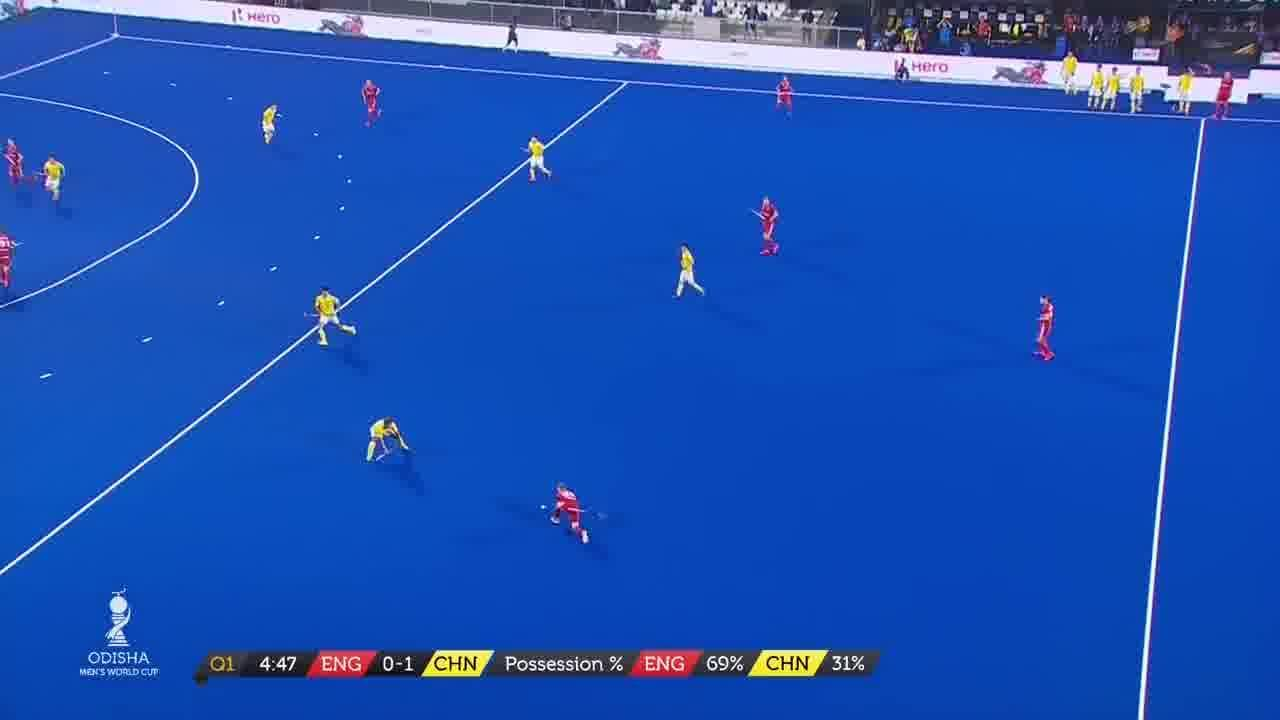ball: (538, 502, 552, 514)
